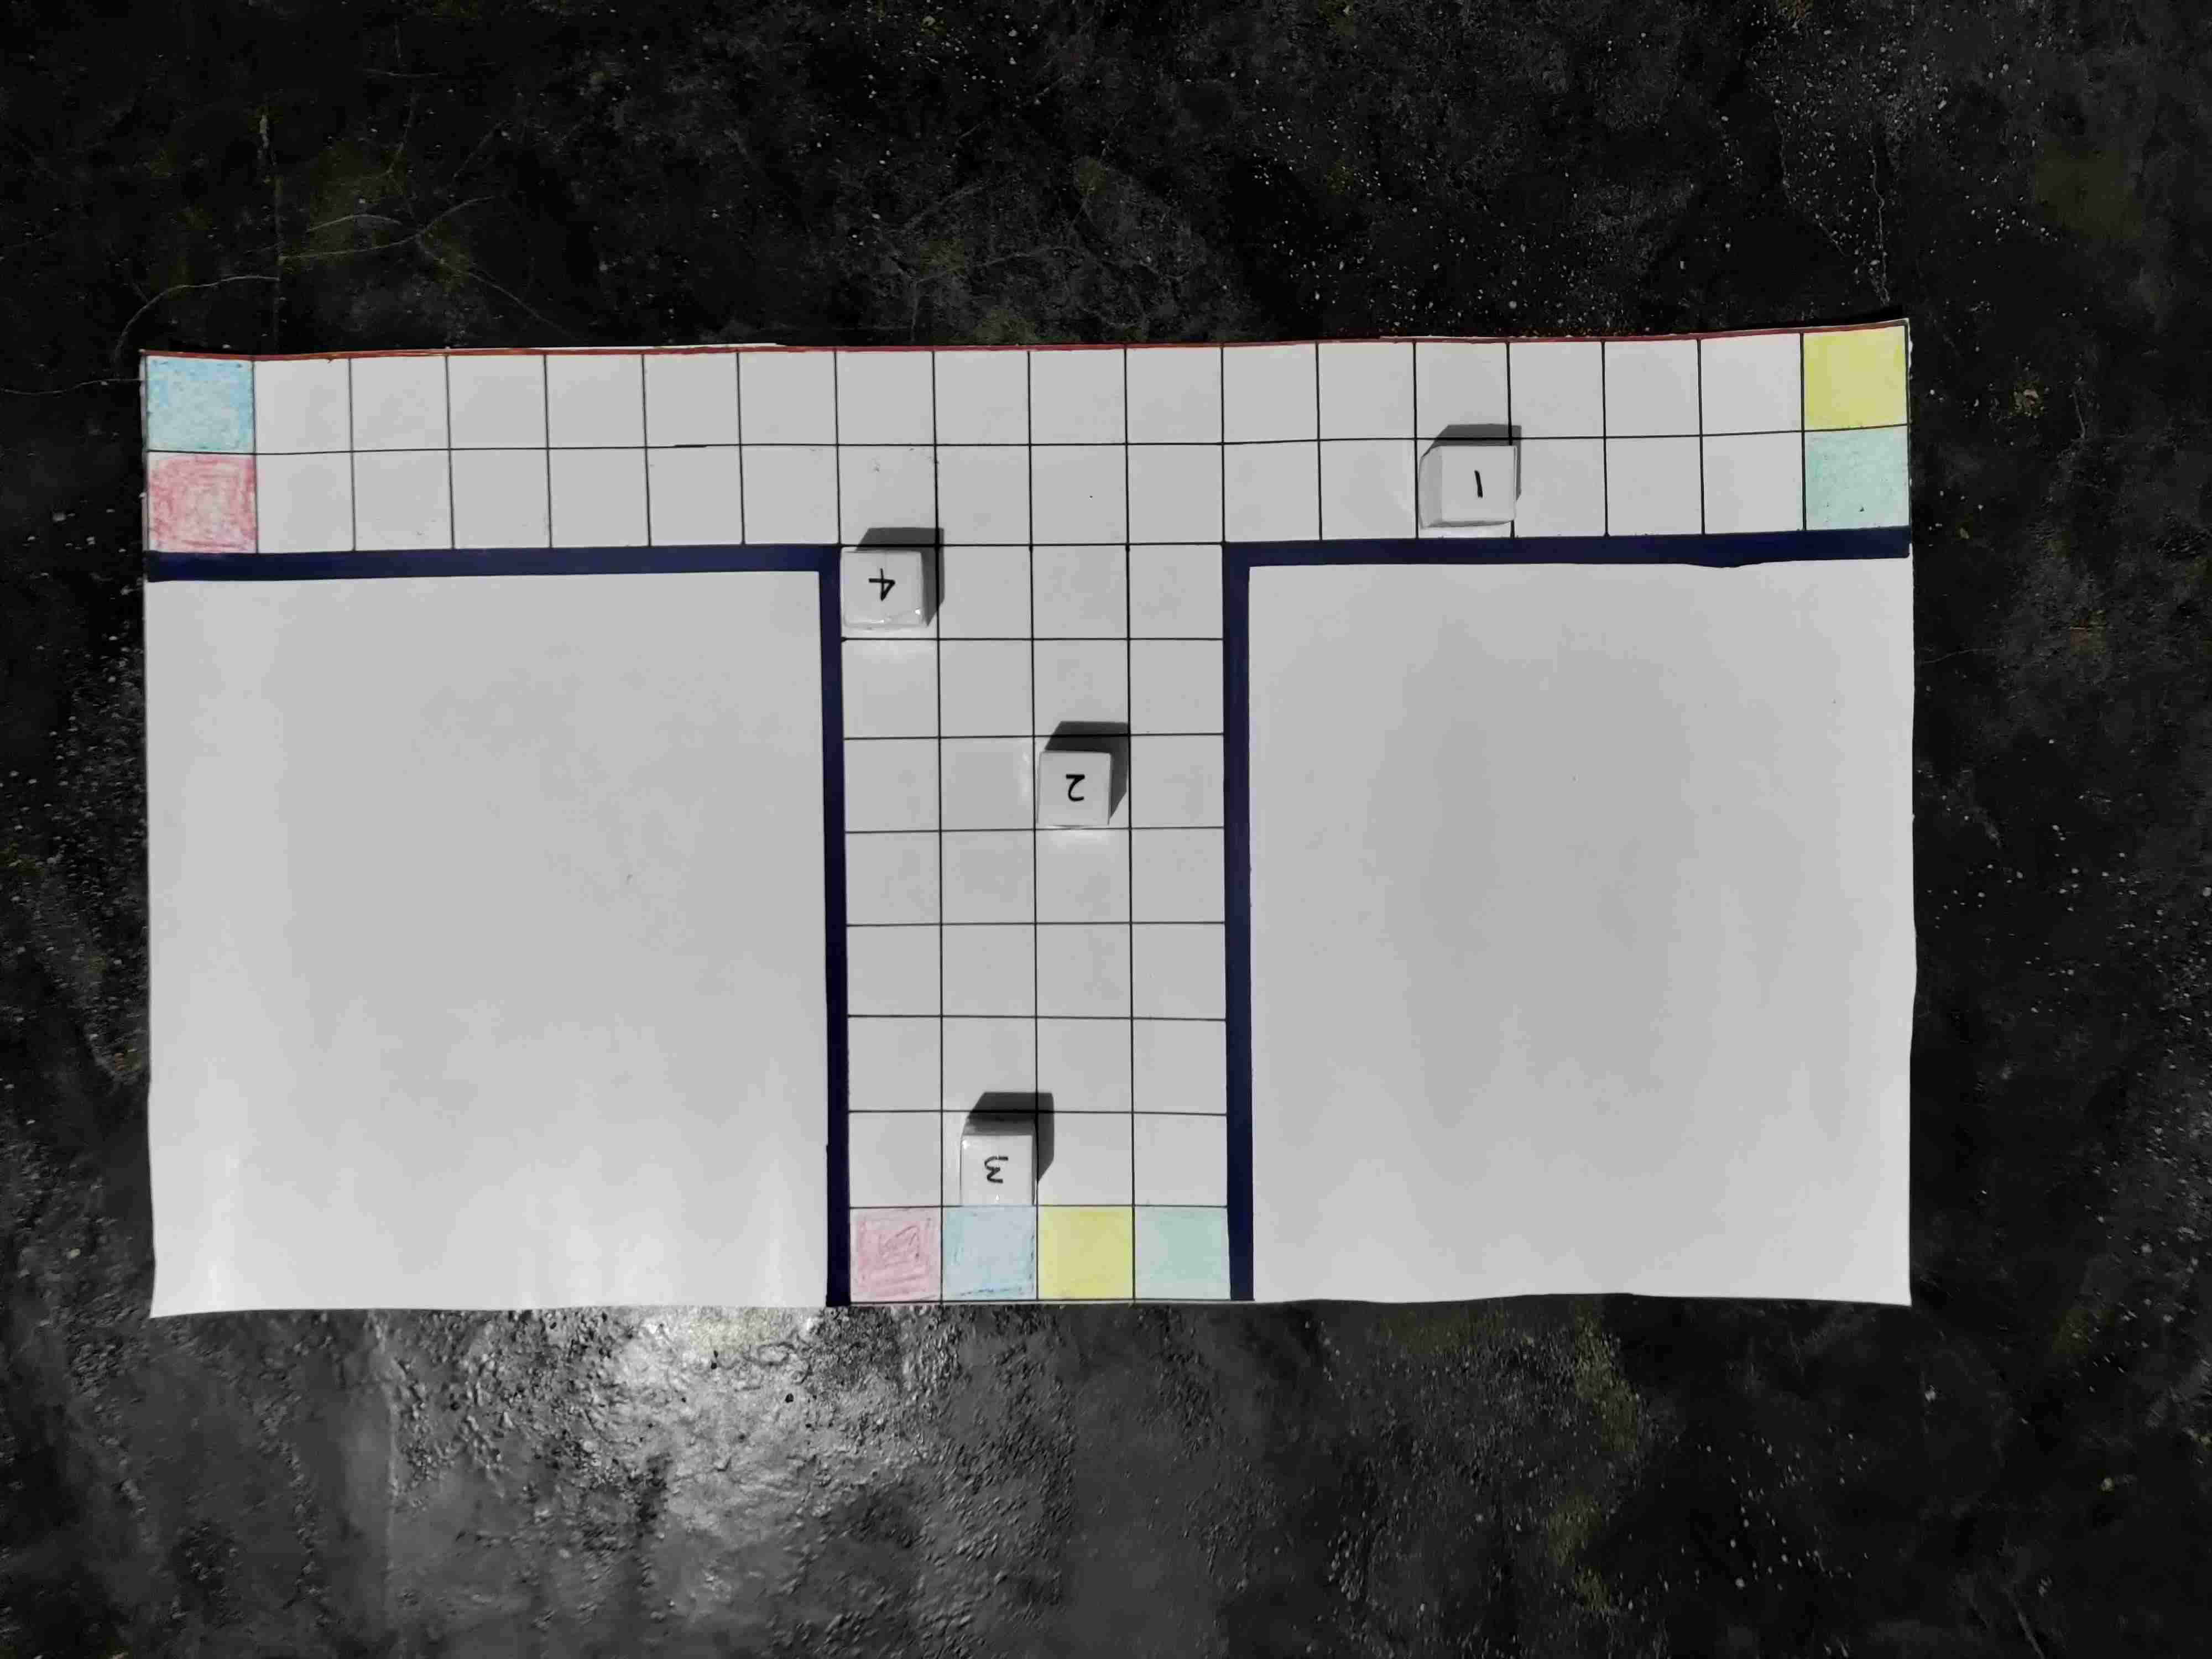arena: (134, 329, 1907, 1300)
bot: (843, 547, 925, 627), (1440, 450, 1521, 526), (960, 1134, 1036, 1204), (1042, 753, 1109, 824)
